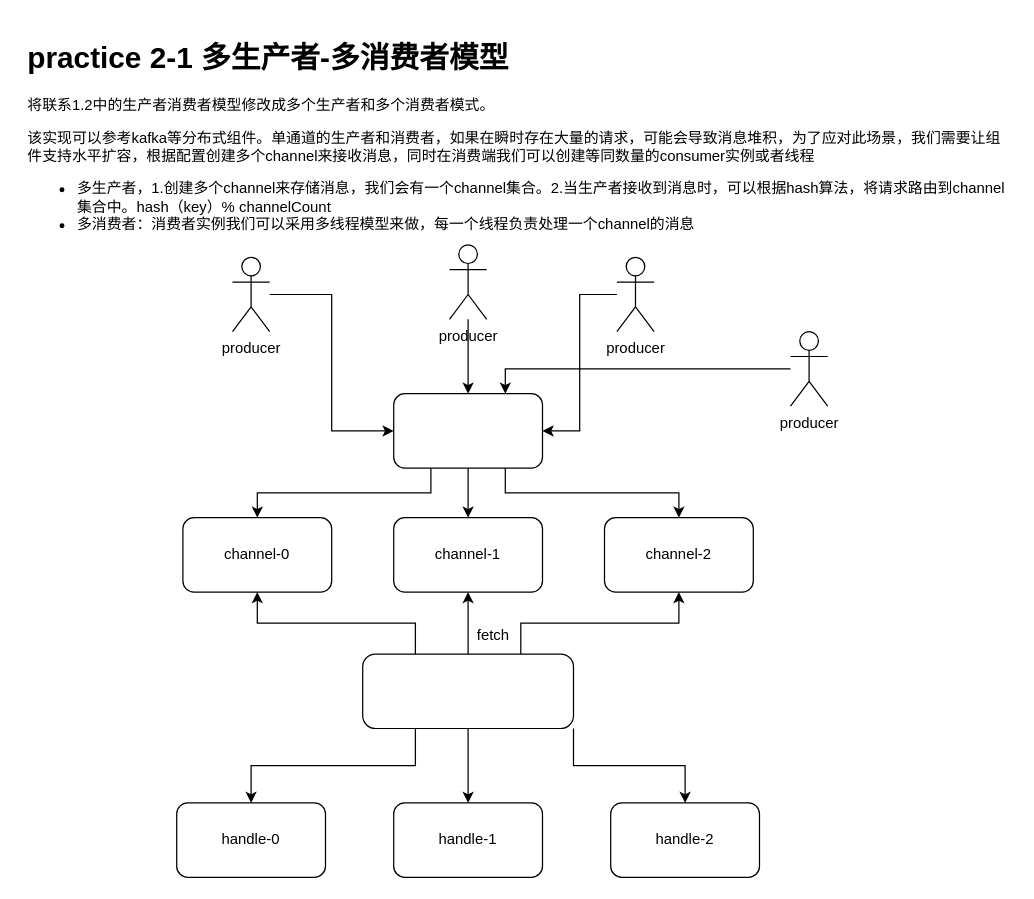
Some shapes in this 1034 by 899 pixel diagram are drawn without their labels. The shapes that lost their labels are listed below. From the top down, each one's centre as x and y in pixels, then its label:
At point (467, 430): "route".
At point (467, 690): "consumer".
